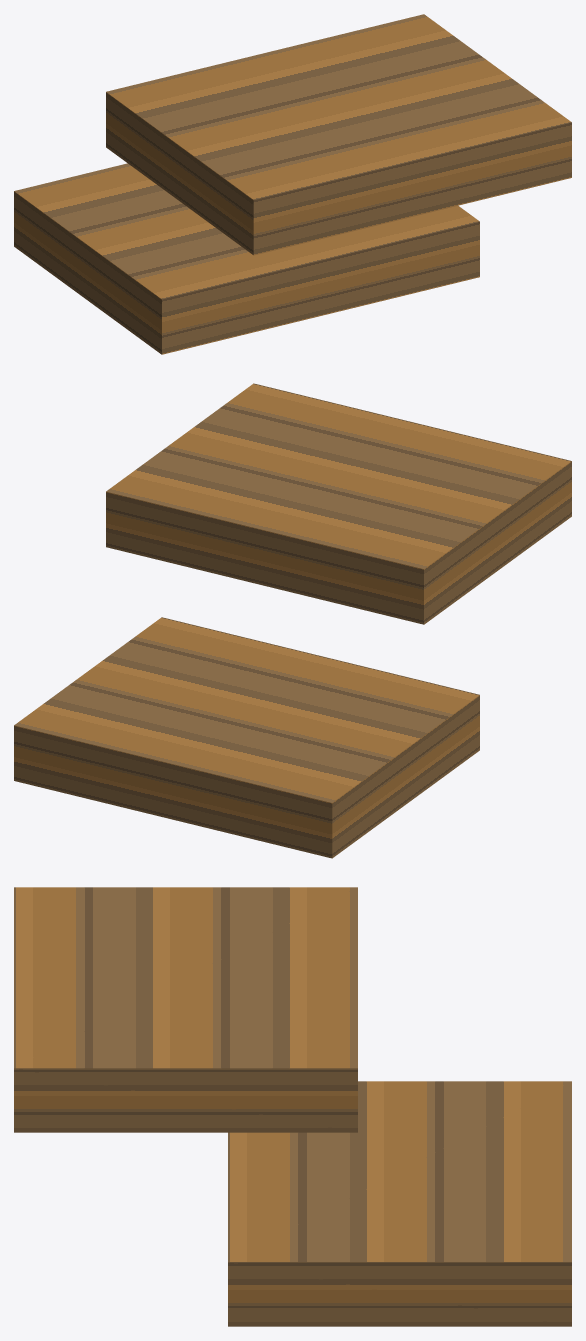
Rendered from WoodStair_Middle.fbx.
3 views of the same model, one above another, from view 1: azimuth 30°, elevation 25°; view 2: azimuth 150°, elevation 25°; view 3: azimuth 270°, elevation 25° (orthographic). The views are drawn at different scales.
Parts seen in each view (by area): view 1: 立方体.011; view 2: 立方体.011; view 3: 立方体.011.
Boxes of the visible parts, x1,y1,x2,y2 form: 立方体.011: [14, 14, 571, 354]; 立方体.011: [14, 383, 571, 858]; 立方体.011: [14, 887, 571, 1326].
Size of the model in its own units: 100 by 66.67 by 130.
